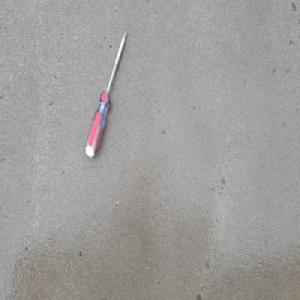Screwdriver: (84, 28, 128, 160)
